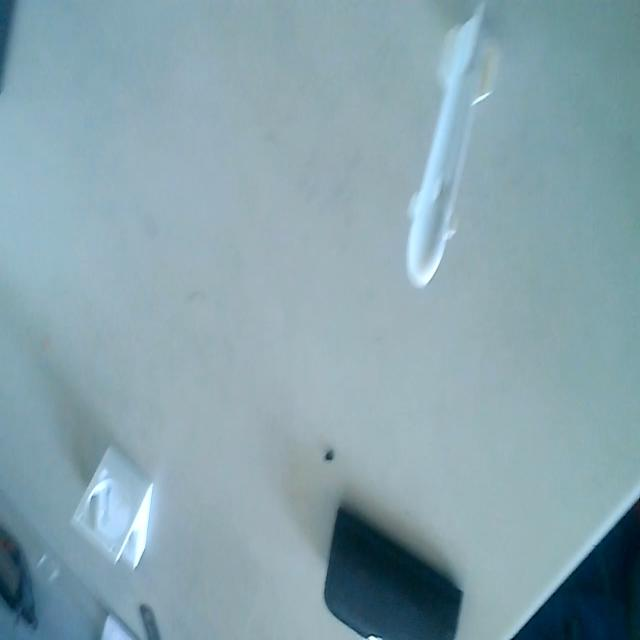Rocket: (407, 10, 499, 300)
